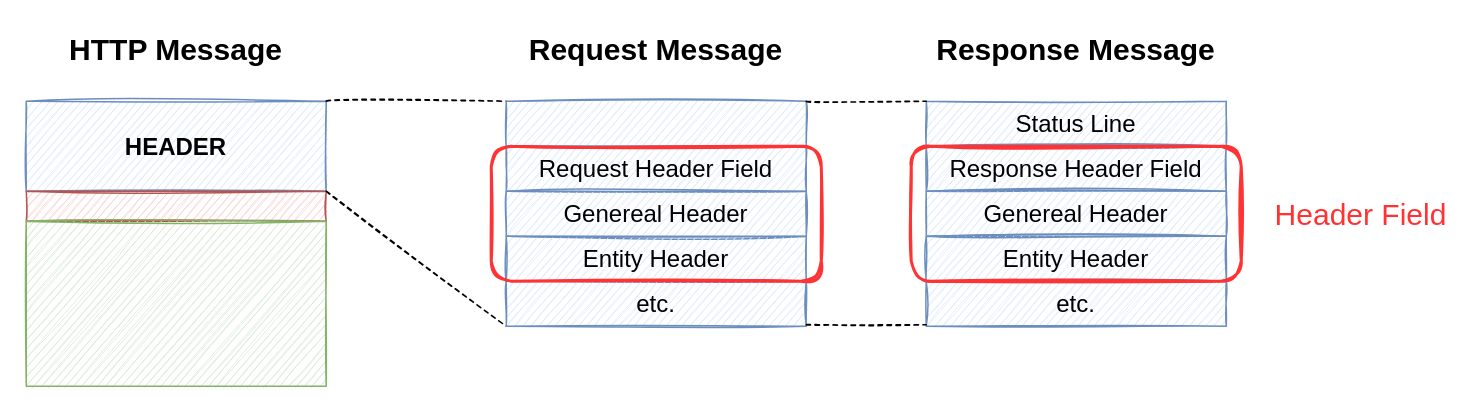
This 1478x413 diagram has some shape labels left out. Each missing label, with the box of its shape:
BODY: (25, 220, 326, 386)
CR+LF: (25, 190, 326, 221)
Request Line: (505, 100, 806, 146)
